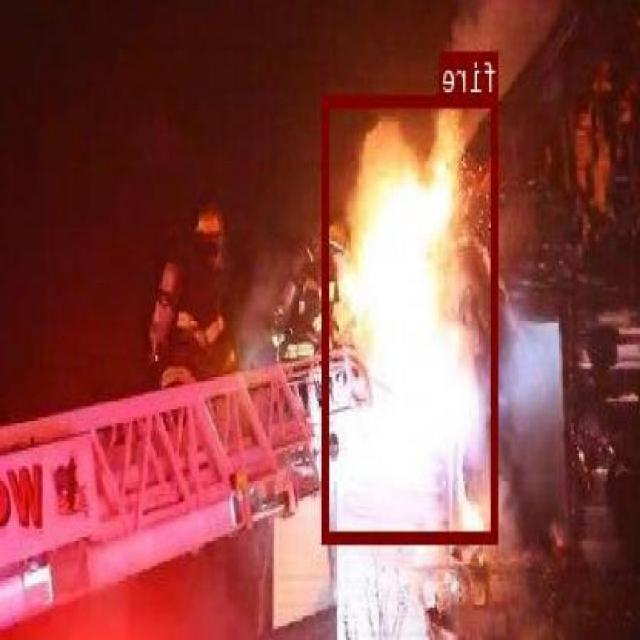Fire: (323, 94, 500, 542)
